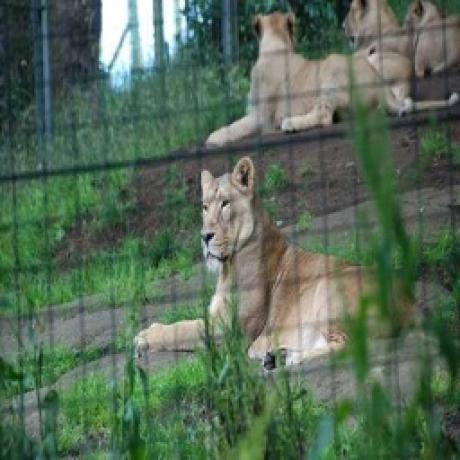Lion: (129, 154, 386, 366), (213, 6, 403, 143), (402, 0, 460, 78), (341, 0, 393, 61)
